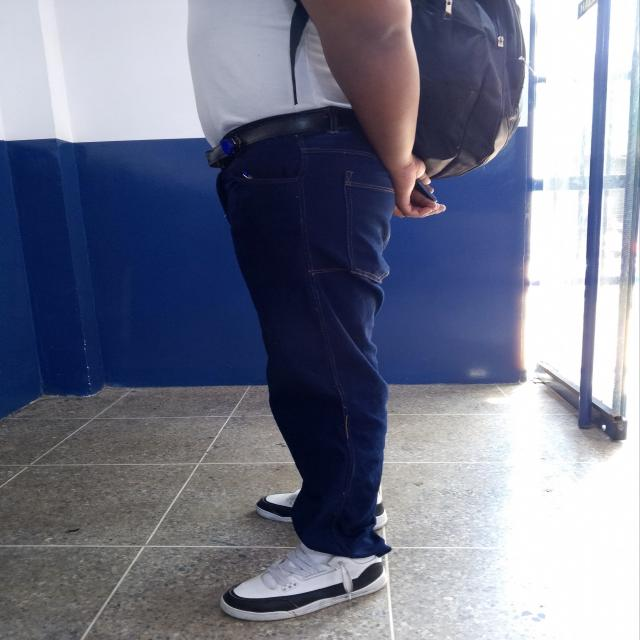pantalon_oscuro: (214, 128, 394, 560)
